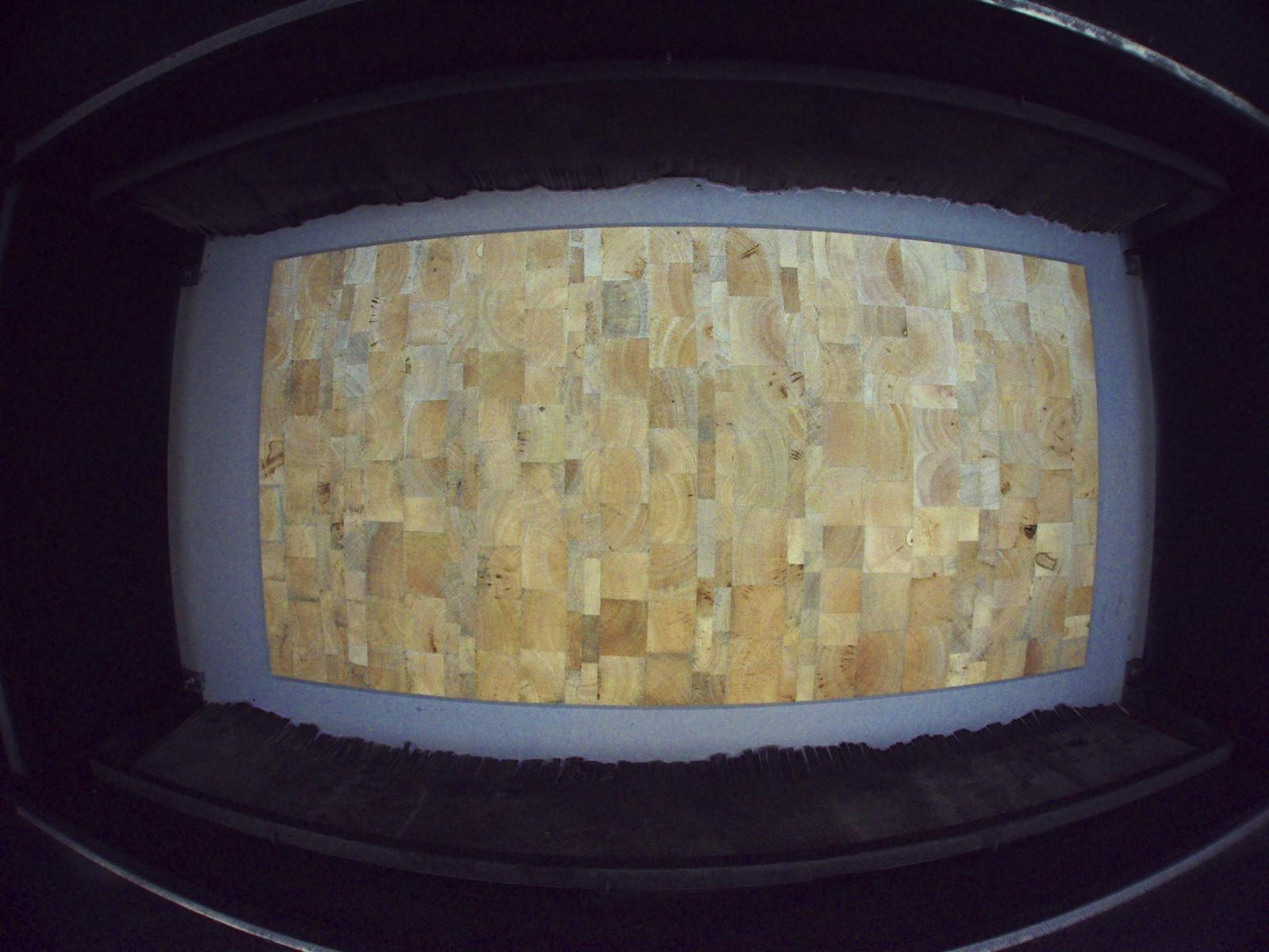nudillo: (1022, 523, 1038, 541)
